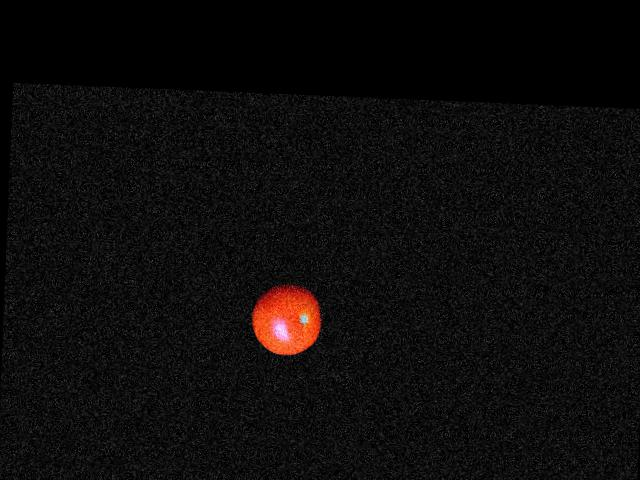tomato: (250, 282, 322, 356)
